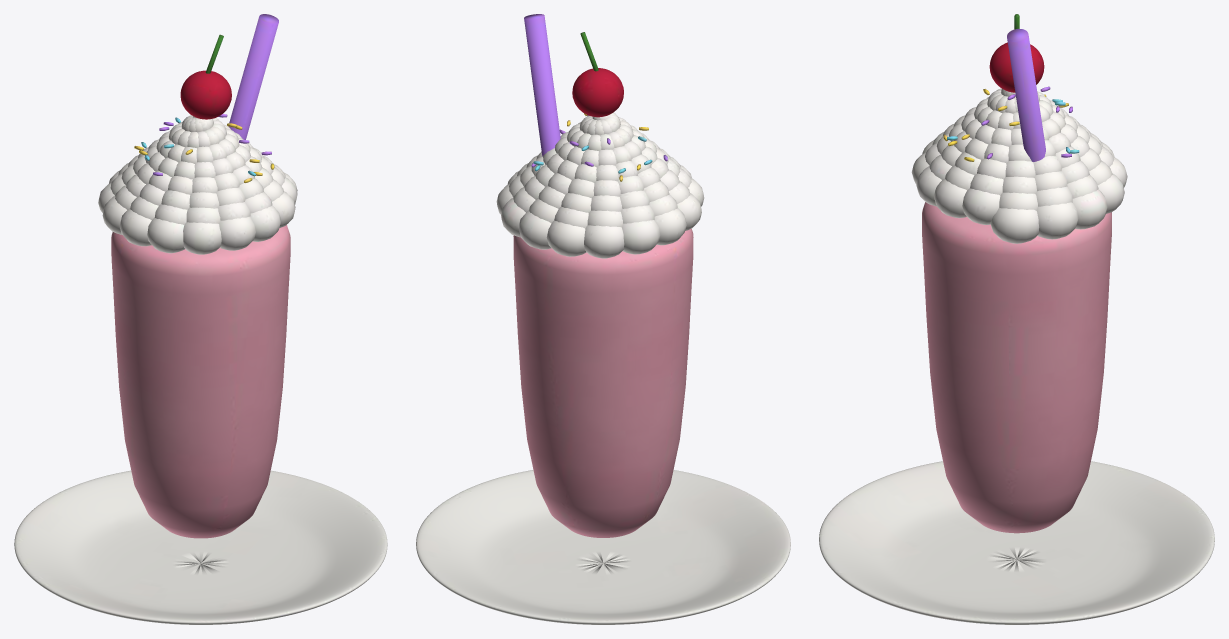
File: malteada.glb
3 renders of one model, left to right at view 1: azimuth 30°, elevation 25°; view 2: azimuth 150°, elevation 25°; view 3: azimuth 270°, elevation 25°, orthographic. The views are drawn at different scales.
Visible parts, largest first — view 1: malteada; view 2: malteada; view 3: malteada.
Part boxes in pixels (x1,y1,x2,y2): malteada: (14, 14, 387, 624); malteada: (416, 14, 790, 624); malteada: (819, 14, 1214, 624).
Bounding box in the file's own units: 0.1597 × 0.2526 × 0.1597.
1 material, 1 textured.
